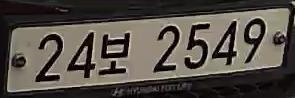2: (30, 32, 66, 84), (149, 24, 183, 74)
4: (65, 28, 98, 81), (212, 18, 242, 68)
5: (182, 20, 211, 71)
9: (240, 13, 271, 65)
보: (99, 30, 132, 77)
